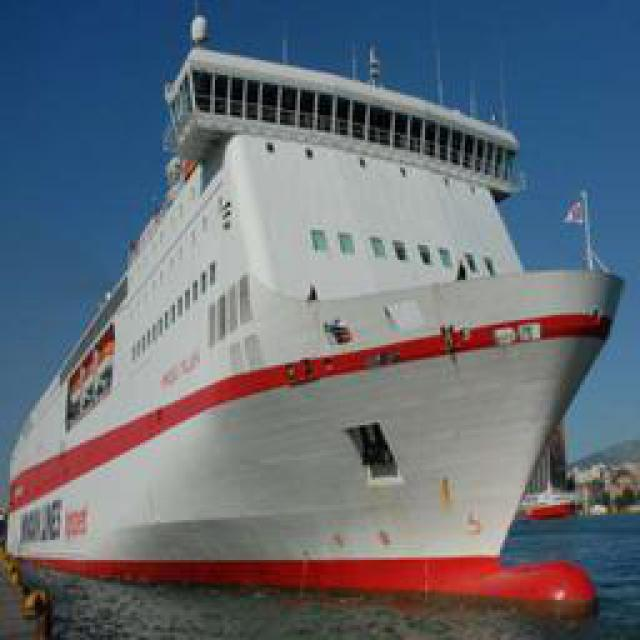Ship: (13, 35, 621, 615)
